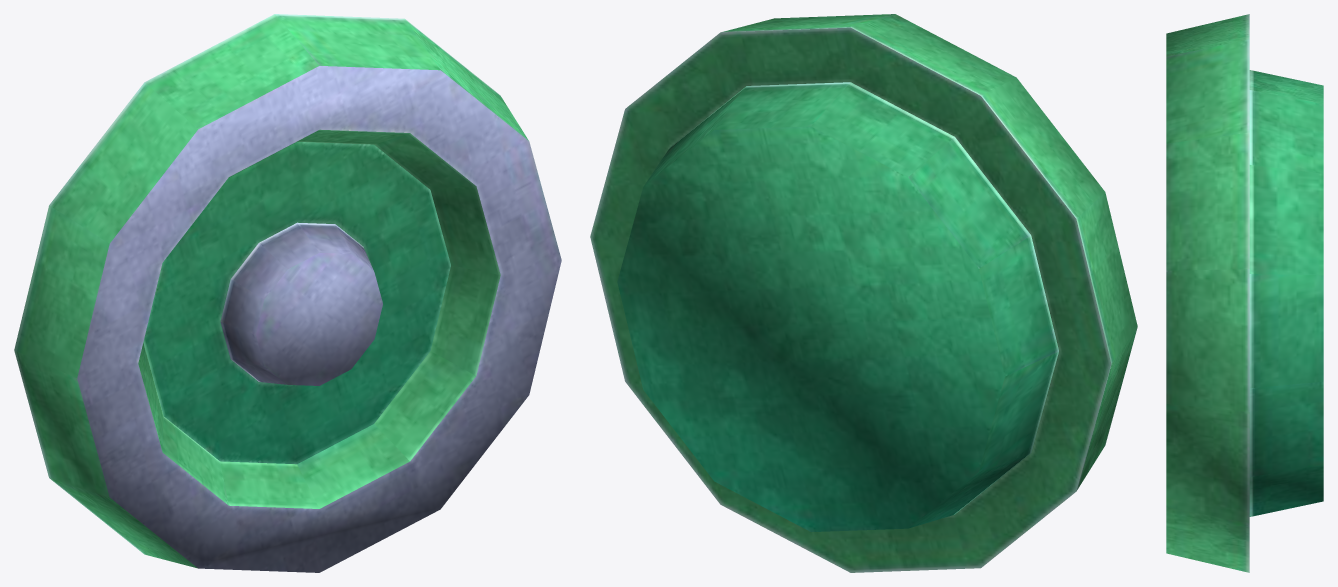
The model's file is armor_25.glb.
The picture shows the model from 3 angles, left to right: view 1: azimuth 30°, elevation 25°; view 2: azimuth 150°, elevation 25°; view 3: azimuth 270°, elevation 25°; orthographic projection. The views are drawn at different scales.
Parts seen in each view (by area): view 1: armor_25; view 2: armor_25; view 3: armor_25.
Boxes of the visible parts, bbox=[...] form: armor_25: bbox=[14, 14, 561, 572]; armor_25: bbox=[590, 14, 1137, 572]; armor_25: bbox=[1166, 14, 1323, 572].
Bounding box in the file's own units: 0.3949 × 0.3949 × 0.1108.
Materials: 1 (1 with a texture image).
